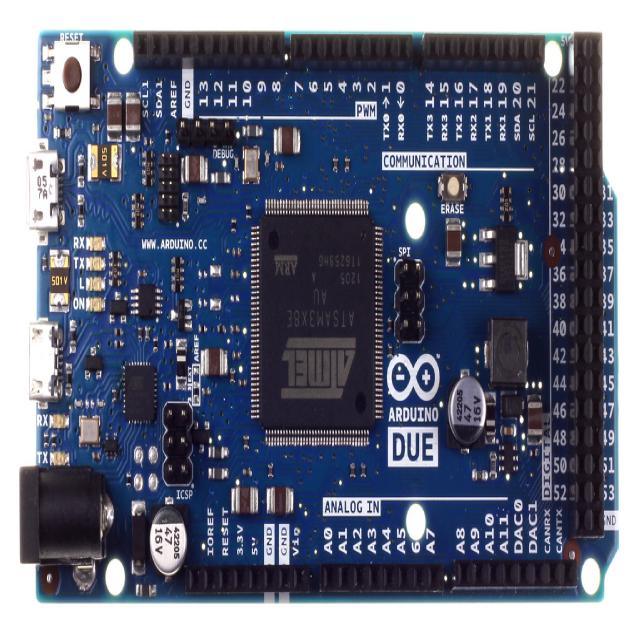Arduino-Due: (21, 31, 618, 598)
